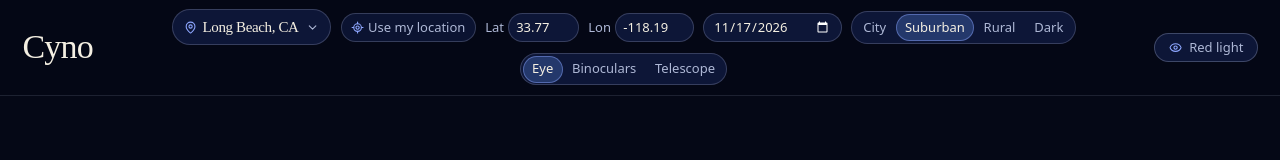
it: ControlsBar › geolocation › explains error code 1 (PERMISSION_DENIED) with its own message
What coordinates should you click on to do the following:
click the button "Use my location"
I would click on:
 (408, 27)
Its box is x1=341 y1=13 x2=476 y2=42.
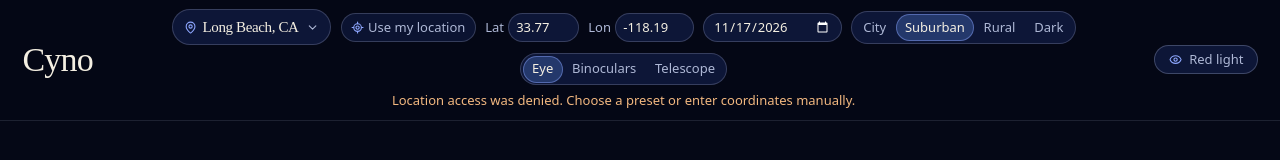
Result: the message reads "Location access was denied. Choose a preset or enter coordinates manually." at x1=392 y1=91 x2=855 y2=109
